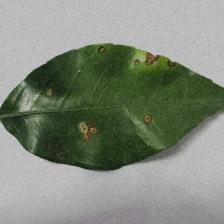canker: (32, 38, 186, 148)
